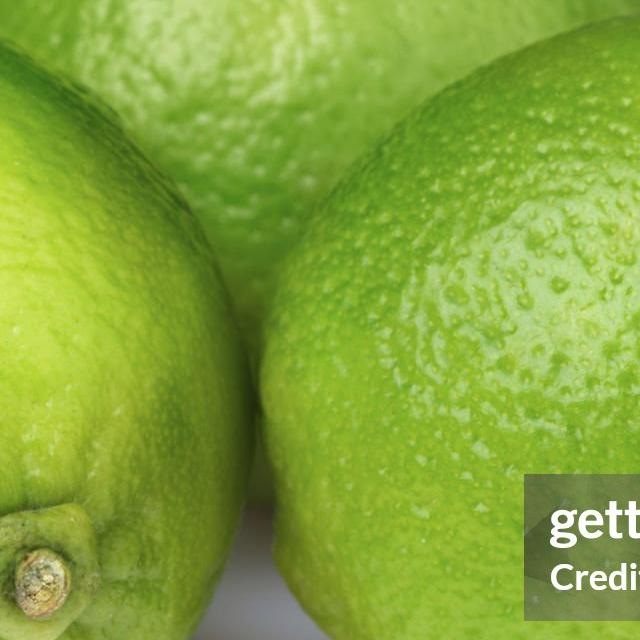lime: (255, 13, 640, 640), (0, 35, 263, 640)
